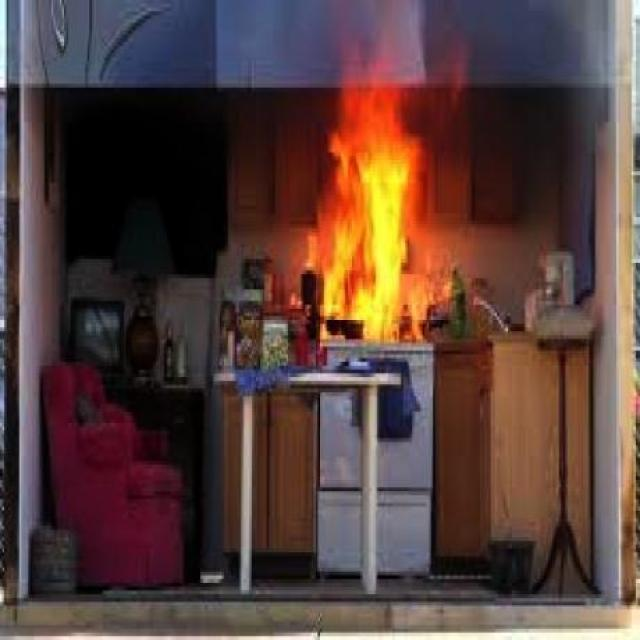Fire: (274, 21, 494, 353)
